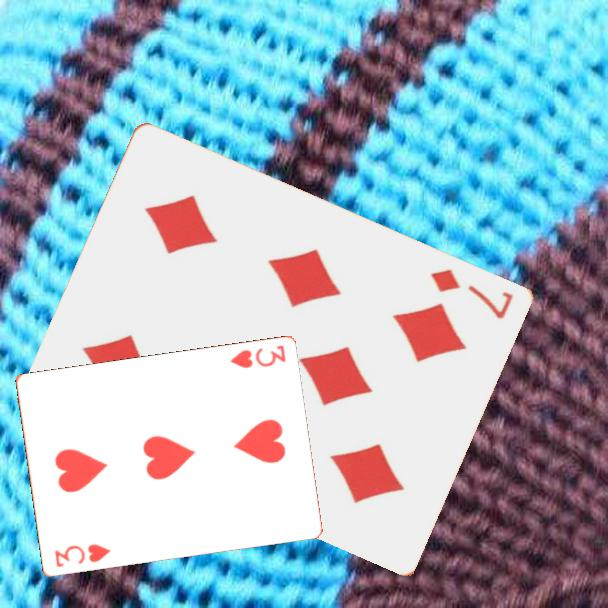d07: (428, 264, 517, 322)
h03: (226, 342, 289, 371), (51, 541, 113, 570)
